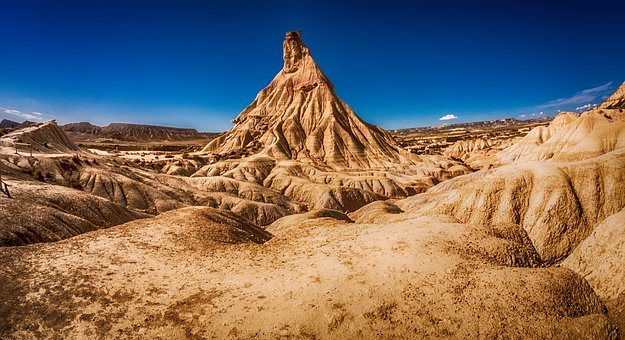ground: (14, 126, 624, 339)
mountain: (220, 41, 401, 169)
sky: (1, 5, 614, 115)
